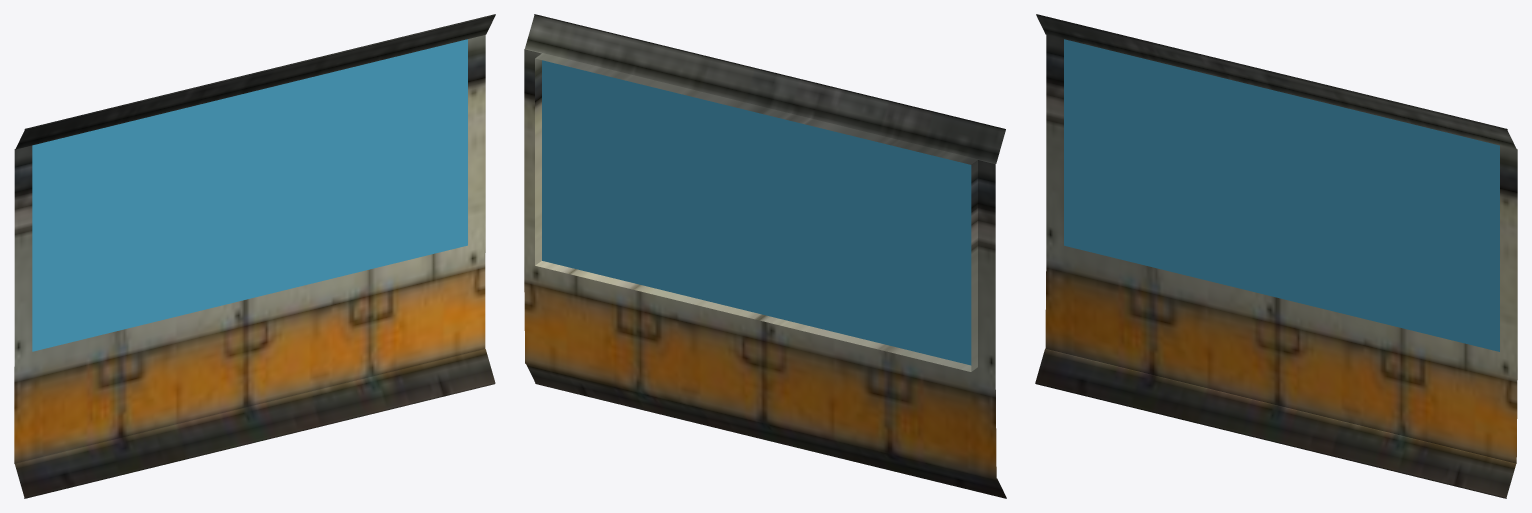
The model's file is wall_window.glb.
3 views of the same model, side by side, from view 1: azimuth 30°, elevation 25°; view 2: azimuth 150°, elevation 25°; view 3: azimuth 330°, elevation 25° (orthographic).
Parts seen in each view (by area): view 1: WideWallViewing; view 2: WideWallViewing; view 3: WideWallViewing.
Boxes of the visible parts, x1,y1,x2,y2 form: WideWallViewing: [14, 14, 495, 498]; WideWallViewing: [524, 14, 1006, 498]; WideWallViewing: [1035, 14, 1517, 498].
Bounding box in the file's own units: 8.01 × 6 × 0.51.
Materials: 2 (1 with a texture image).
